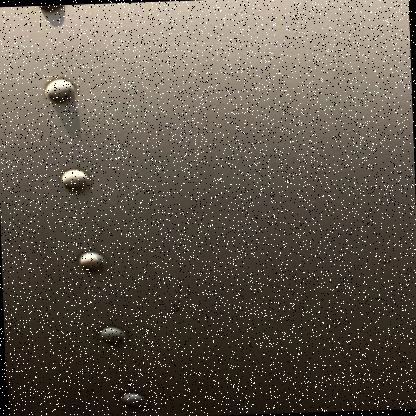Nocrack: (16, 0, 415, 411)
